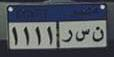1: (46, 26, 53, 45), (12, 27, 18, 46), (36, 26, 41, 46), (24, 26, 29, 45)
noon: (92, 26, 104, 42)
raa: (62, 30, 73, 43)
seen: (75, 27, 91, 43)
